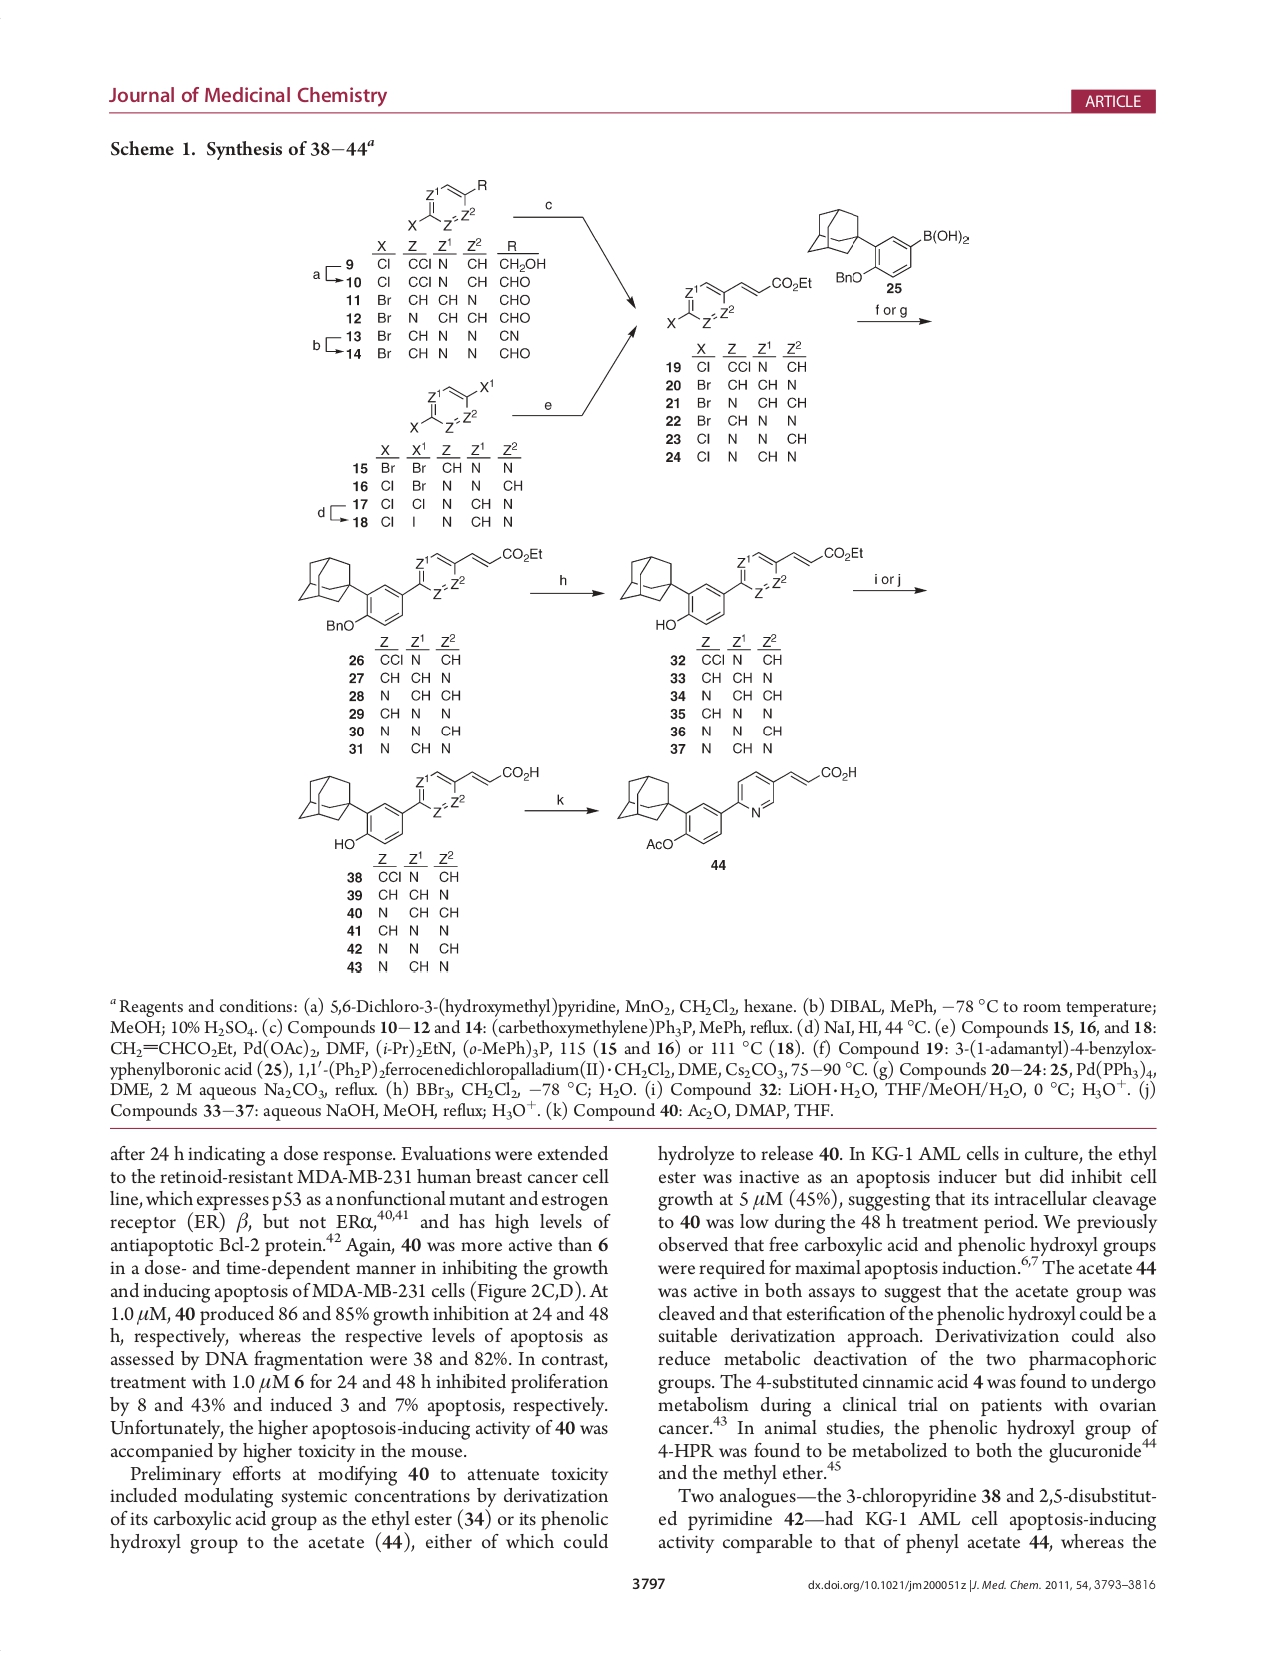exist_molecular: (297, 545, 545, 634), (617, 763, 859, 852), (297, 763, 541, 851), (618, 547, 866, 632), (806, 207, 973, 285), (662, 273, 814, 334), (406, 375, 497, 438), (406, 176, 489, 235)
